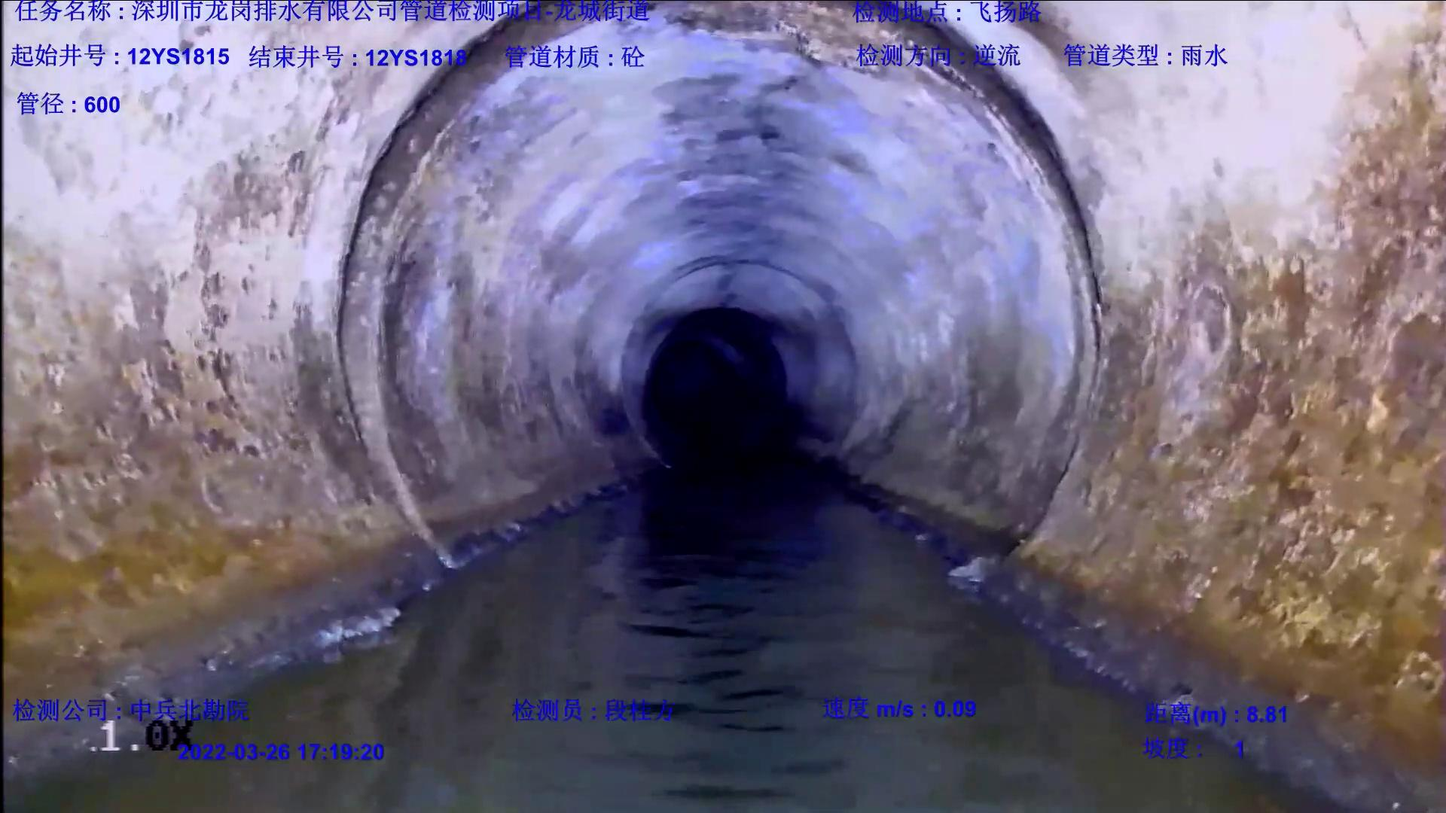CKTJ: (337, 0, 1100, 547)
